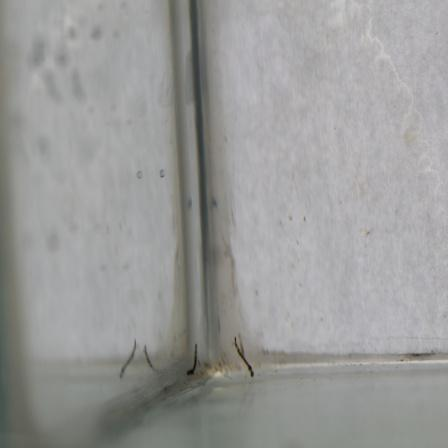Jentik-Nyamuk: (233, 333, 257, 381), (183, 340, 204, 381)
